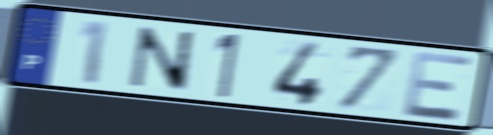1: (78, 19, 112, 87), (213, 31, 242, 100)
4: (269, 38, 325, 108)
7: (340, 42, 406, 113)
E: (401, 49, 477, 124)
N: (127, 24, 196, 94)
